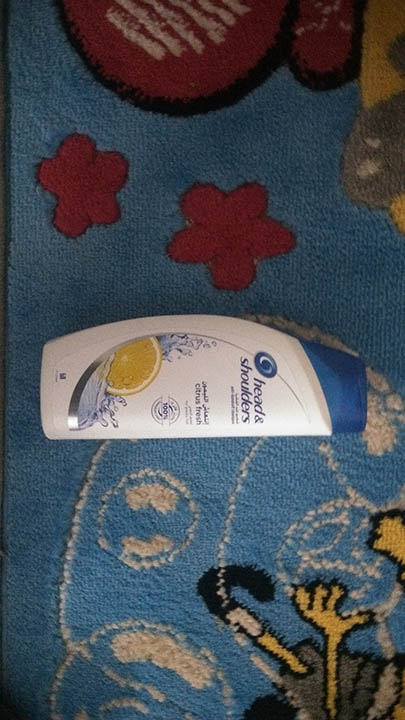shampoo-Lemon 3.5$: (32, 314, 382, 456)
